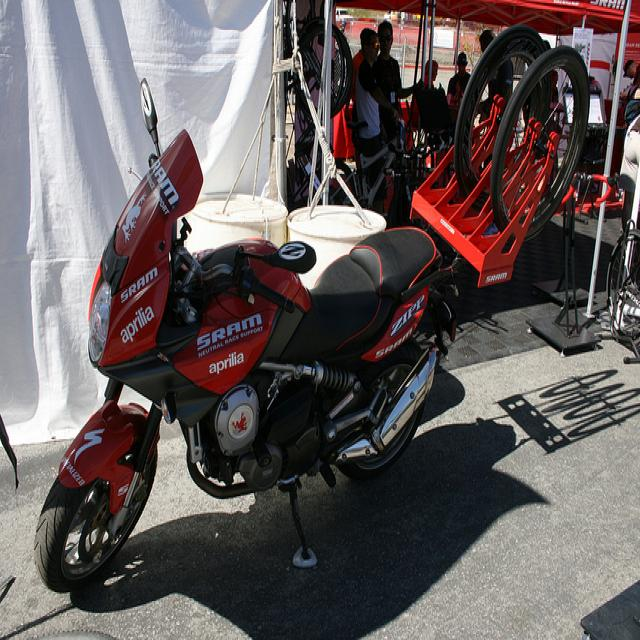motor: (38, 76, 444, 582)
